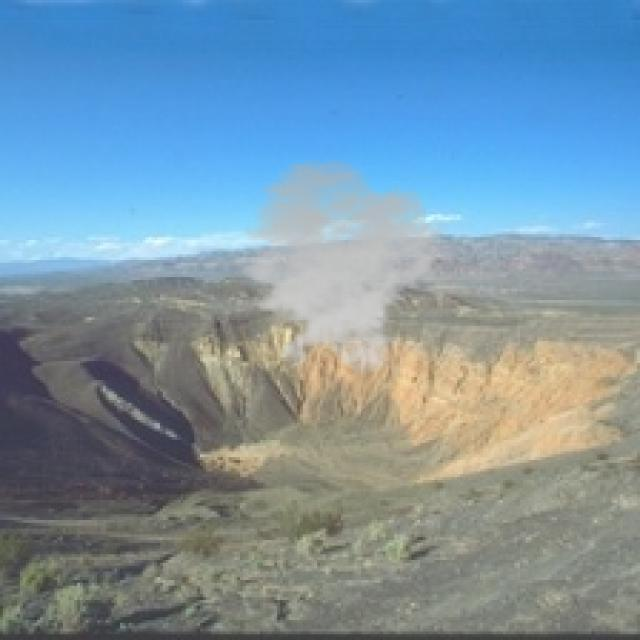Smoke: (217, 157, 446, 374)
